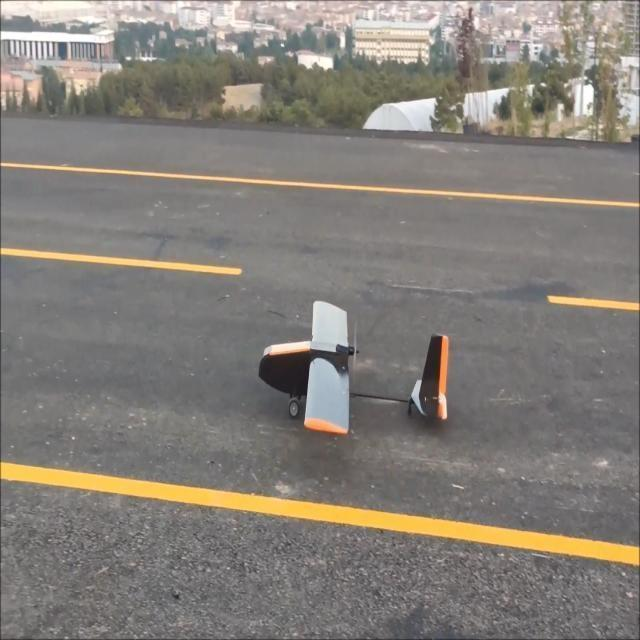Airplane: (246, 284, 464, 442)
